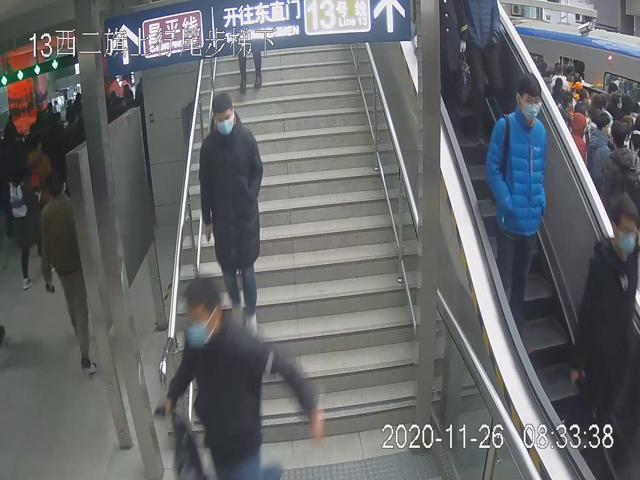person: (157, 272, 326, 478), (479, 68, 548, 326), (197, 92, 268, 337)
